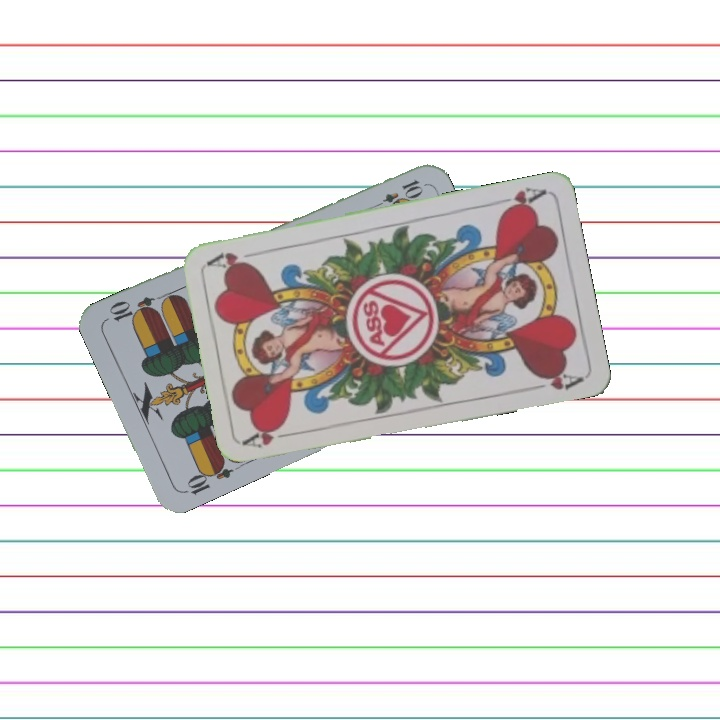E10: (179, 456, 235, 498), (369, 175, 425, 213)
HA: (490, 183, 548, 216), (241, 421, 300, 451)
